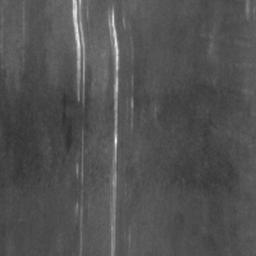Bright scratch: (109, 8, 119, 256), (70, 0, 86, 106)
